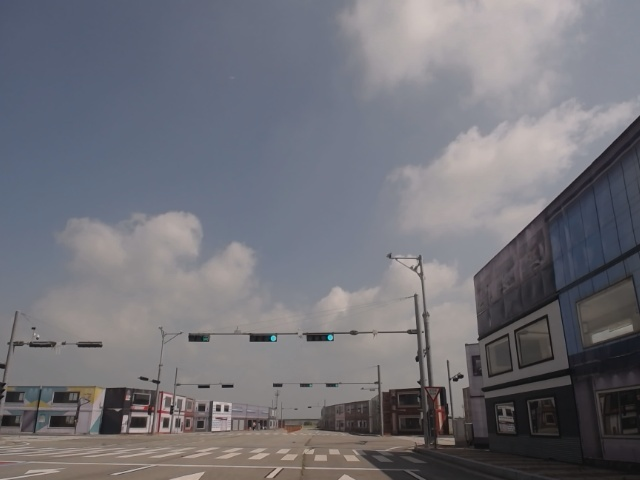straight_green_4: (249, 333, 277, 343), (304, 334, 333, 342)
